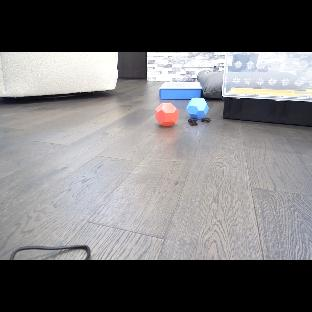V5_BLUE: (155, 103, 178, 127), (186, 97, 209, 119)
